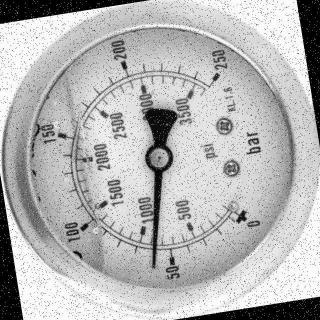gauge: (0, 0, 320, 320), (188, 44, 240, 102), (216, 191, 266, 241), (143, 142, 176, 174), (146, 255, 164, 272)
